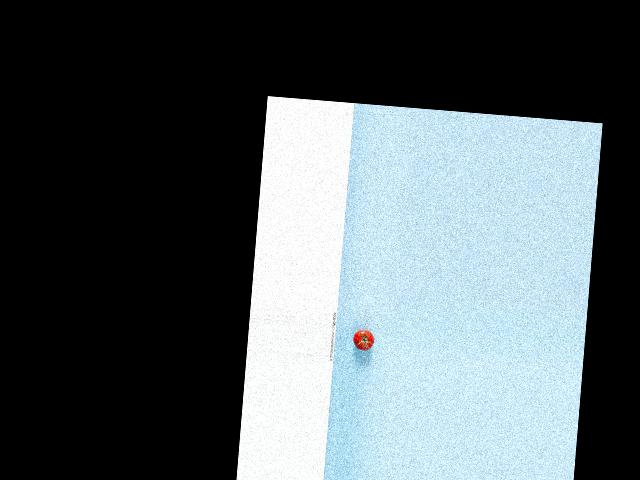tomato: (351, 329, 374, 350)
